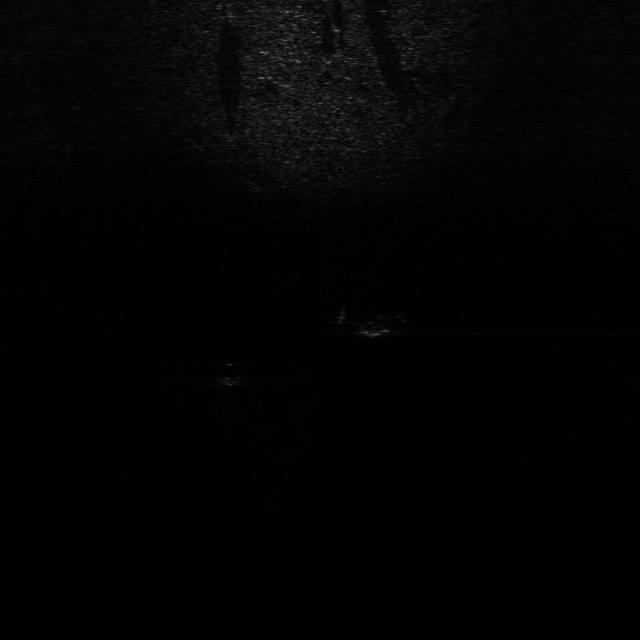ball: (213, 359, 249, 389)
human body: (329, 302, 412, 339)
